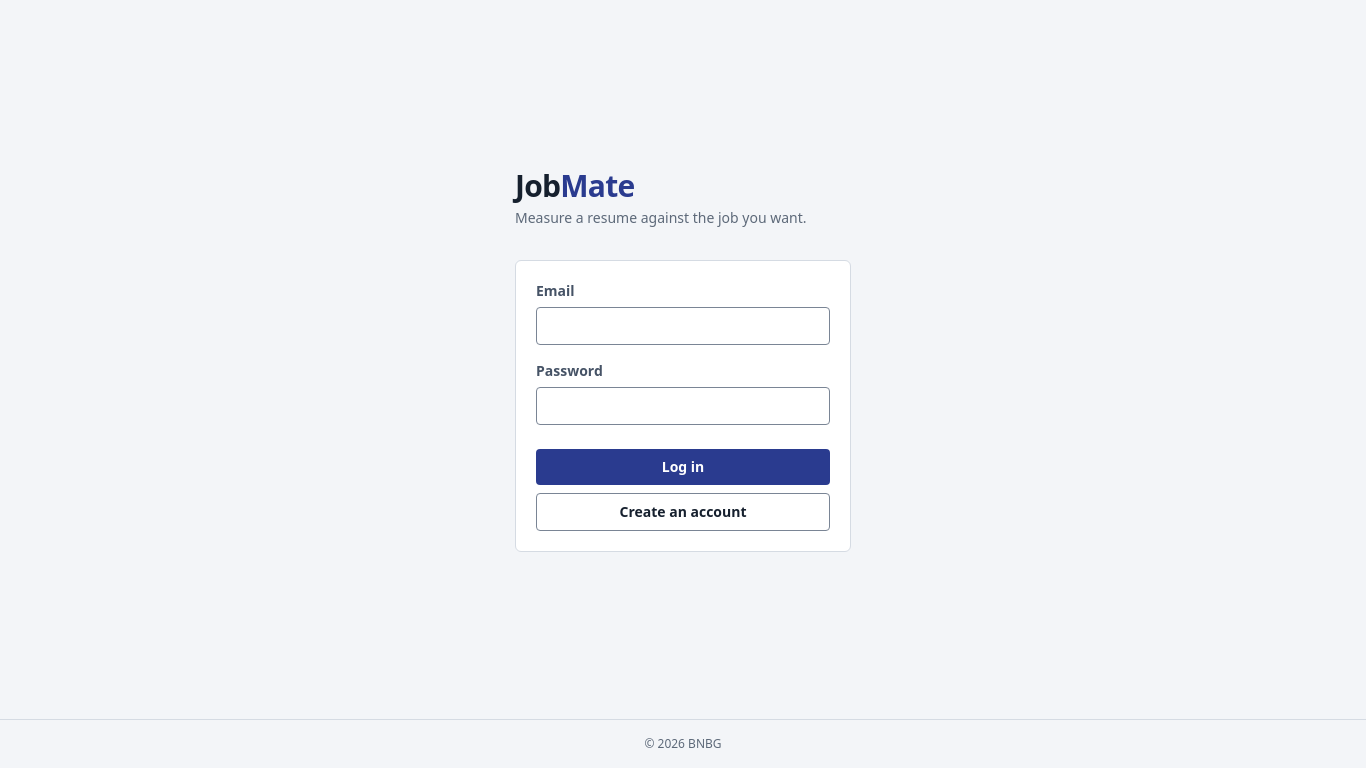
Test: a rejected login says why, in the API’s own words
Type "reader@example.com" into the field labelled "Email".
click(683, 326); type("reader@example.com")  # box [536,306,830,344]
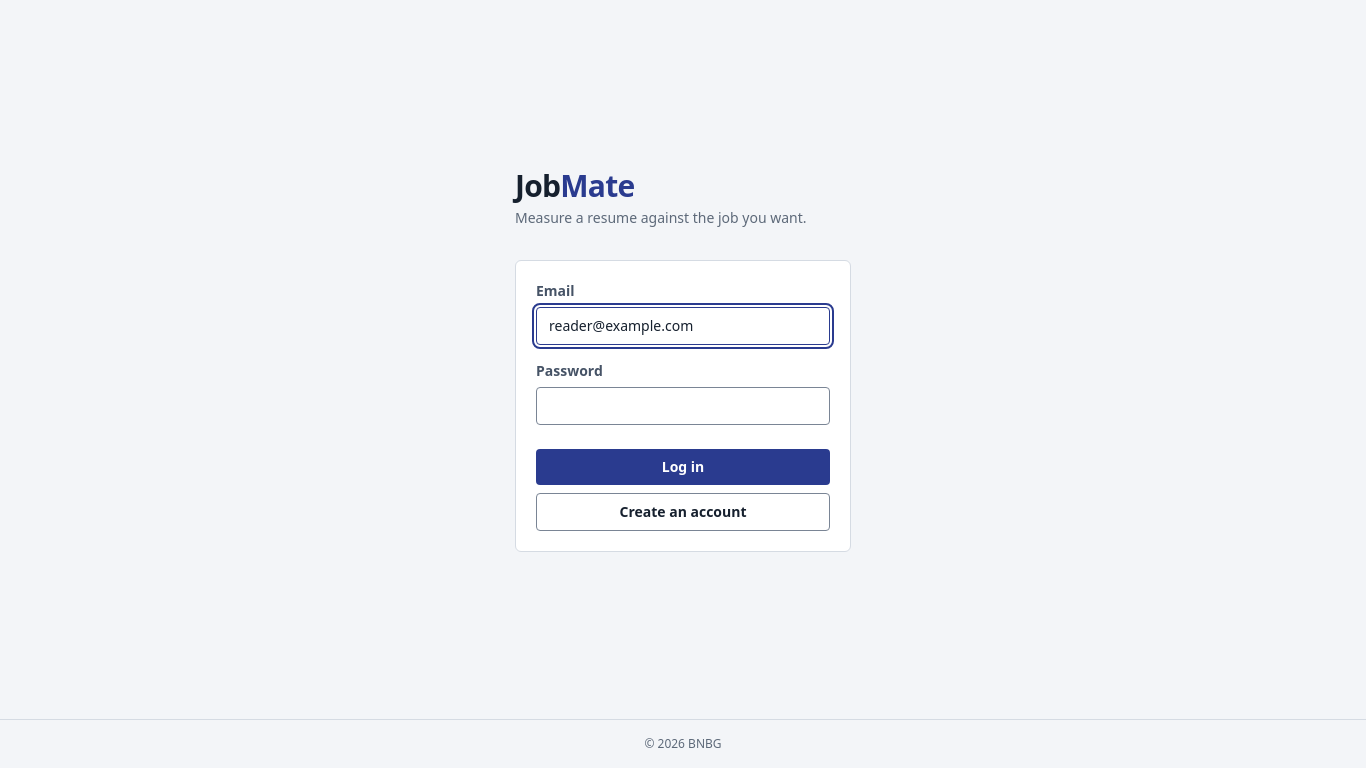
Type "wrong" into the password field labelled "Password".
click(683, 406); type("wrong")  # box [536,386,830,424]
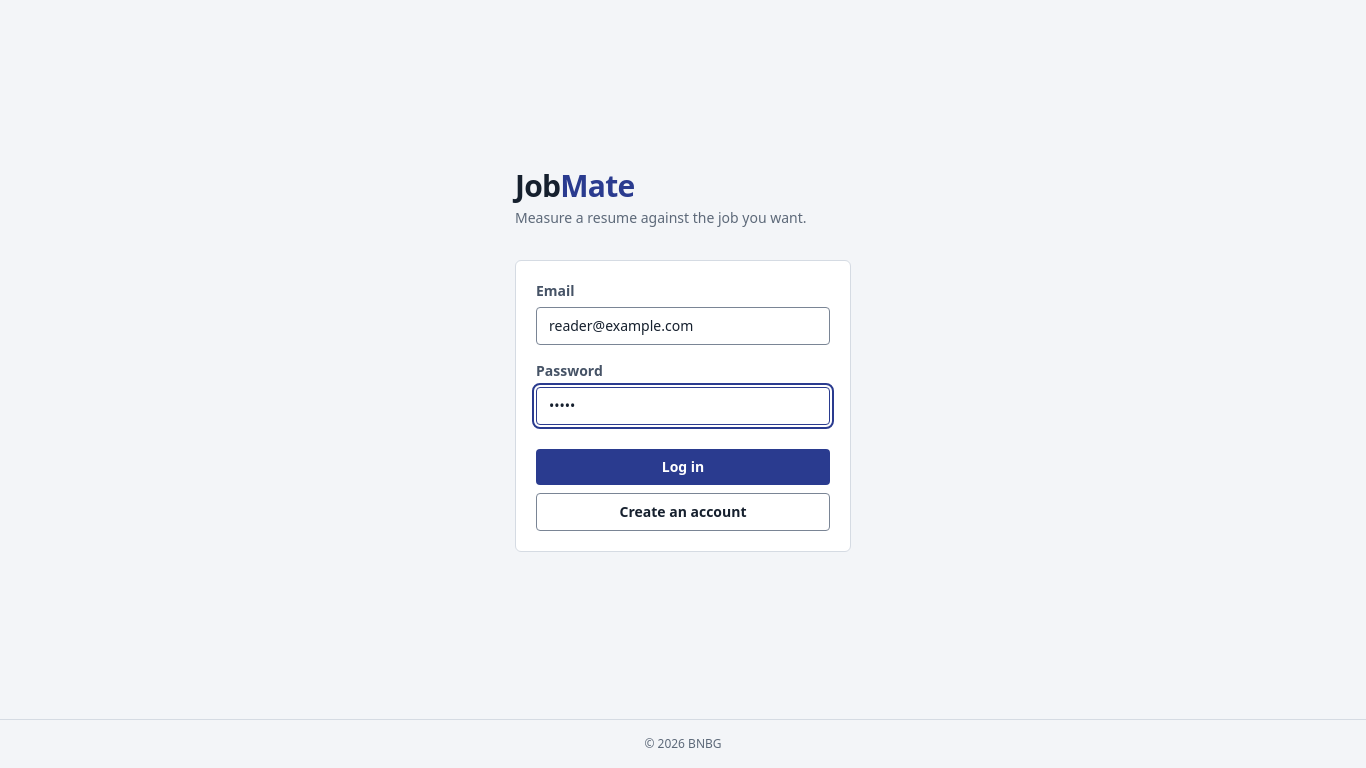
Click the button "Log in".
click(683, 466)  # box [536,448,830,484]
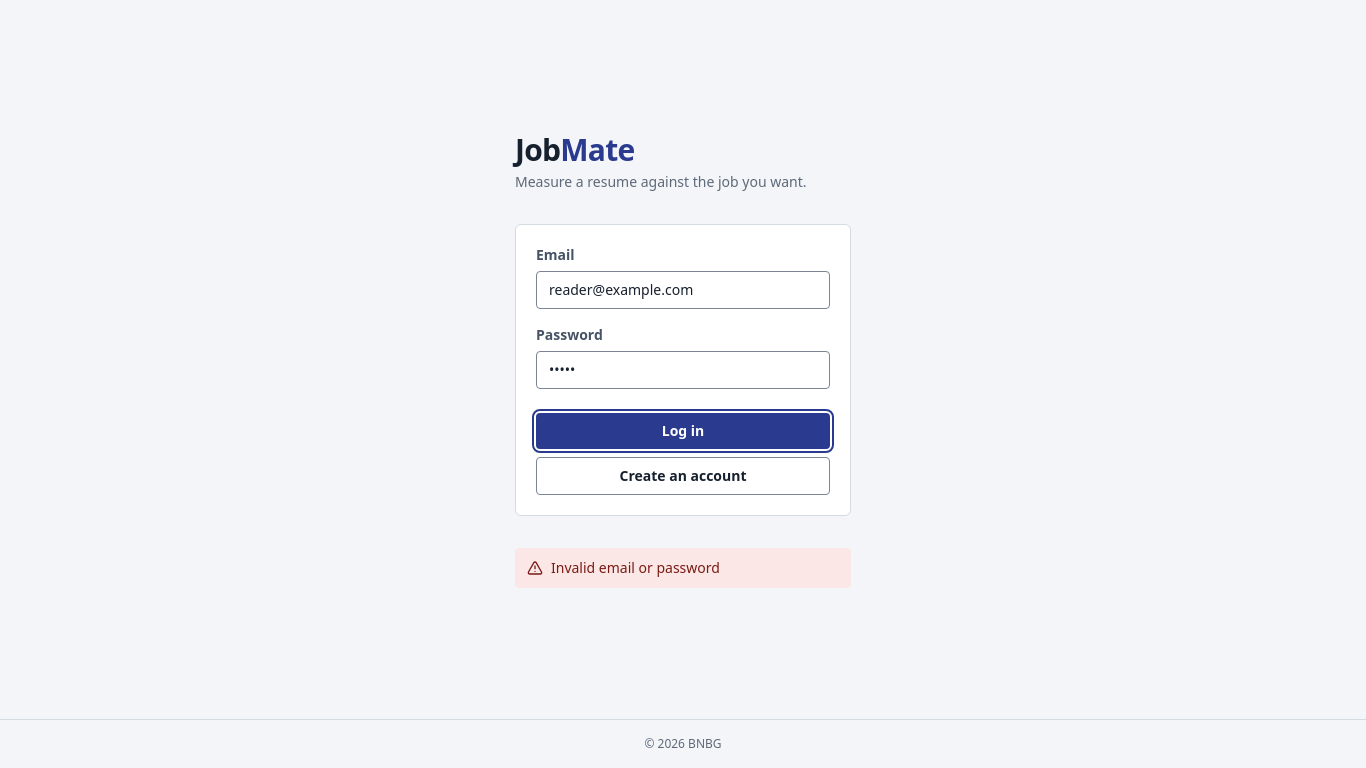
Now the message reads "Invalid email or password", box [551,558,720,576]
